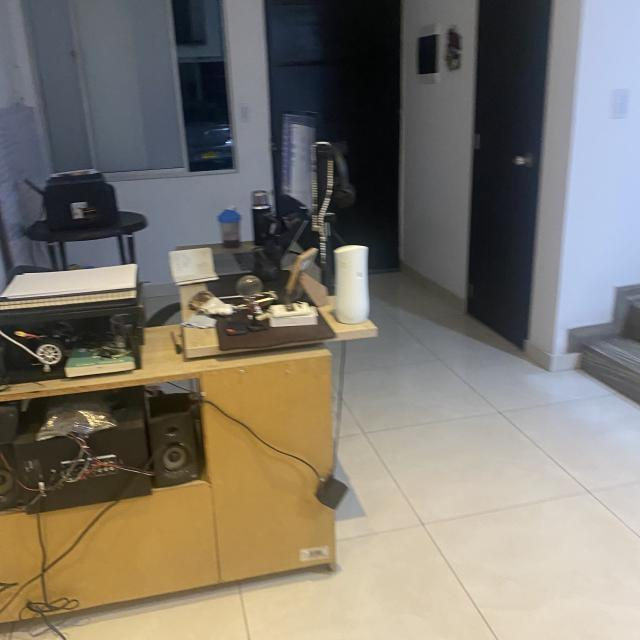obstacle: (6, 114, 368, 631)
stair: (560, 264, 640, 421)
